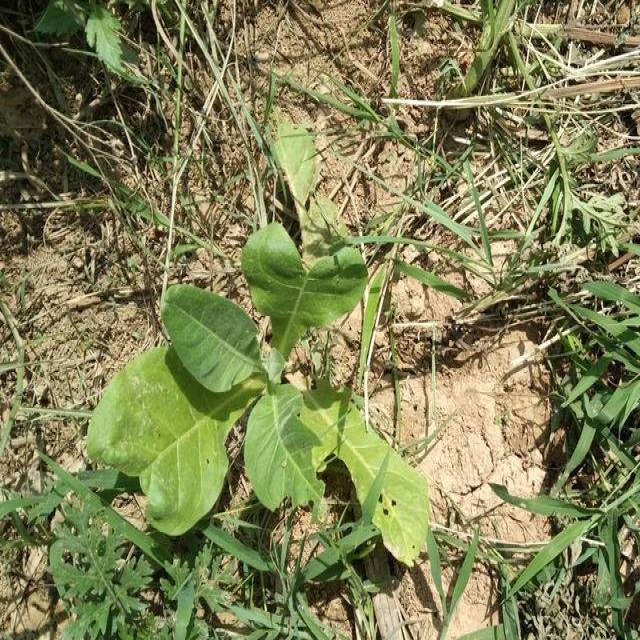crop: (82, 161, 446, 555)
